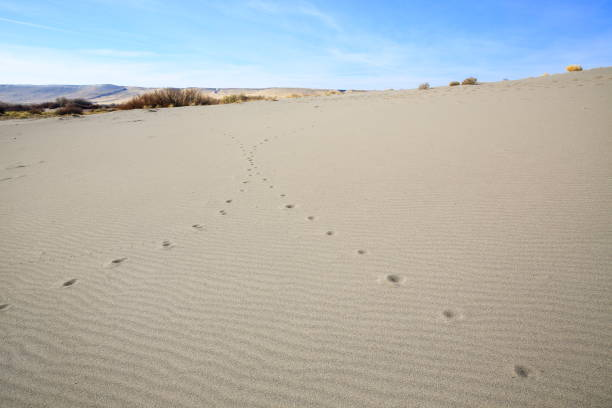human_foot_print: (242, 146, 275, 188), (378, 273, 406, 286), (5, 160, 45, 169), (441, 308, 463, 321), (107, 257, 127, 267), (514, 365, 530, 377), (386, 274, 401, 283), (61, 278, 77, 286), (6, 163, 27, 169), (111, 257, 127, 264), (442, 309, 454, 318), (161, 240, 174, 248), (0, 303, 10, 311), (192, 224, 203, 230), (0, 177, 12, 181), (325, 230, 334, 235), (357, 249, 366, 254), (285, 204, 294, 208), (307, 216, 314, 220), (225, 199, 232, 203), (219, 210, 226, 214), (148, 109, 157, 112), (269, 185, 274, 189), (280, 193, 285, 197), (262, 177, 267, 181), (242, 180, 248, 183), (239, 189, 244, 192)
